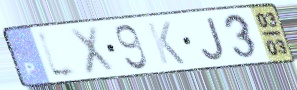3: (222, 11, 265, 62)
9: (114, 23, 149, 71)
J: (199, 15, 228, 63)
K: (145, 20, 188, 66)
L: (34, 27, 84, 82)
X: (66, 24, 118, 77)
